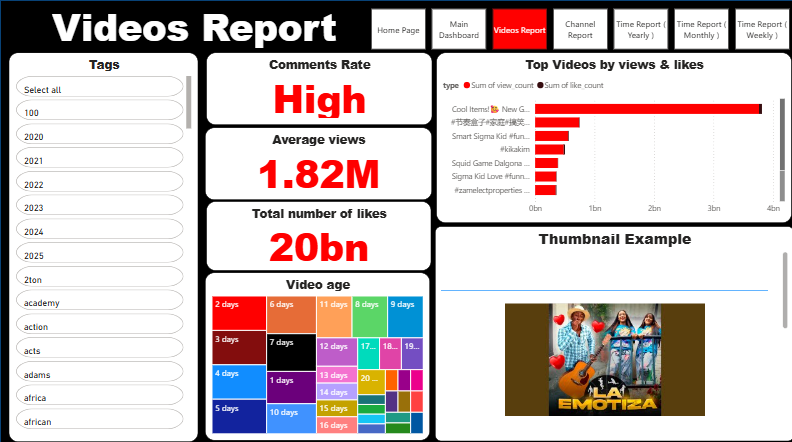

This screenshot's page, from the dashboard's own definition file:
{"tool":"powerbi","page":{"name":"Videos  Report","canvas":[1280,720],"ordinal":3},"visuals":[{"type":"shape","box":[0,0,1271.4,711.4],"z":0},{"type":"textbox","title":"Videos Report","box":[77.3,0,466.7,88.3],"z":1000},{"type":"tableEx","title":"Thumbnail Example","fields":{"Values":["Min(Dim_Video.thumbnail_url)"]},"box":[695.7,362.9,574.3,344],"z":2000},{"type":"treemap","title":"Video age","fields":{"Values":["Sum(Fact_Views.view_count)"],"Group":["Dim_Video.period"]},"box":[328.9,436.6,360,268.6],"z":3000},{"type":"barChart","title":"Top Videos  by views & likes","fields":{"Category":["Dim_Video.title"],"Y":["Sum(Fact_Views.view_count)","Sum(Fact_Views.like_count)"]},"box":[697.1,84.3,568.6,272.9],"z":4000},{"type":"card","title":"Comments Rate","fields":{"Values":["Min(Dim_Video.comment_rate)"]},"box":[329.4,84.3,361.4,115.7],"z":5000},{"type":"card","title":"Average views","fields":{"Values":["Avg(Fact_Views.view_count)"]},"box":[328.3,203.4,362.9,115.7],"z":6000},{"type":"card","title":"Total number of likes","fields":{"Values":["Sum(Fact_Views.like_count)"]},"box":[329.4,322,360,111.4],"z":7000},{"type":"advancedSlicerVisual","title":"Tags","fields":{"Values":["Dim_Video.trend_tags"]},"box":[13.3,83.3,303.3,623.3],"z":8000},{"type":"pageNavigator","box":[593.3,13.3,673.3,65],"z":9000}]}

Visuals, with their boxes in screenshot pixels (x1, y1, x2, y2), scaled from the page's 1280x720 canvas onto the 792x442 screenshot:
shape: 0, 0, 787, 437
"Videos Report" textbox: 48, 0, 337, 54
"Thumbnail Example" tableEx: 430, 223, 786, 434
"Video age" treemap: 204, 268, 426, 433
"Top Videos  by views & likes" barChart: 431, 52, 783, 219
"Comments Rate" card: 204, 52, 427, 123
"Average views" card: 203, 125, 428, 196
"Total number of likes" card: 204, 198, 427, 266
"Tags" advancedSlicerVisual: 8, 51, 196, 434
pageNavigator: 367, 8, 784, 48
